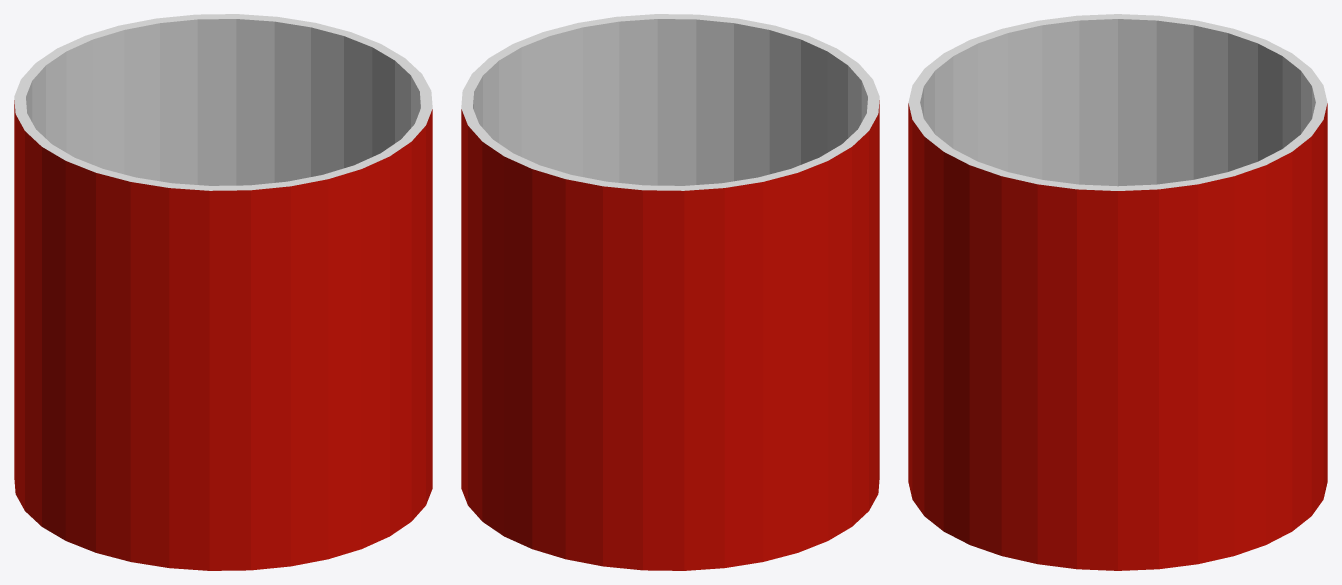
Rendered from ugly-cup-4-corrected-uv.glb.
3 views of the same model, side by side, from view 1: azimuth 30°, elevation 25°; view 2: azimuth 150°, elevation 25°; view 3: azimuth 270°, elevation 25° (orthographic).
Visible parts, largest first — view 1: Cylinder; view 2: Cylinder; view 3: Cylinder.
Boxes of the visible parts, bbox=[...] form: Cylinder: bbox=[14, 14, 432, 570]; Cylinder: bbox=[461, 14, 879, 570]; Cylinder: bbox=[908, 14, 1327, 570].
Size of the model in its own units: 2 by 2 by 2.
